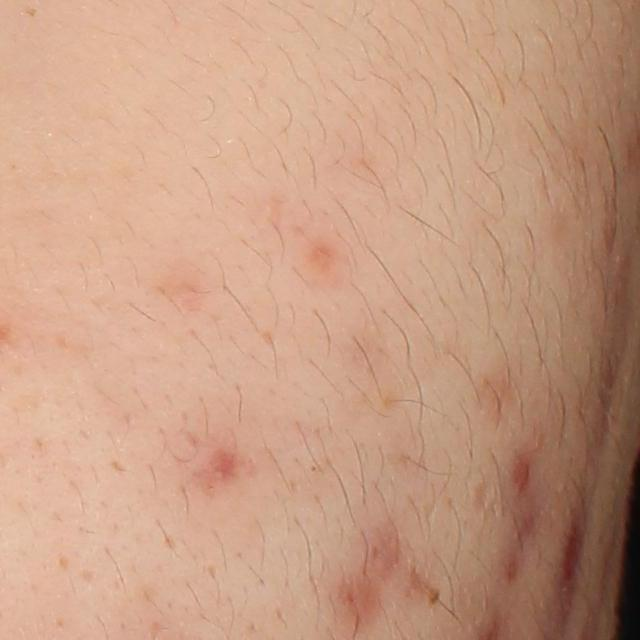papule: (513, 459, 532, 492)
